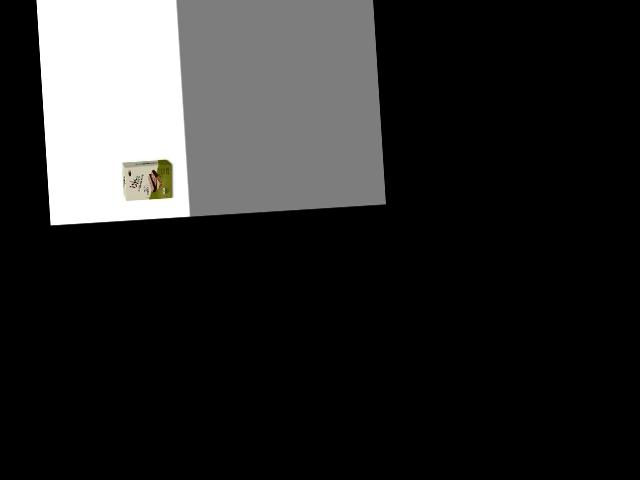chocolate: (121, 156, 175, 202)
